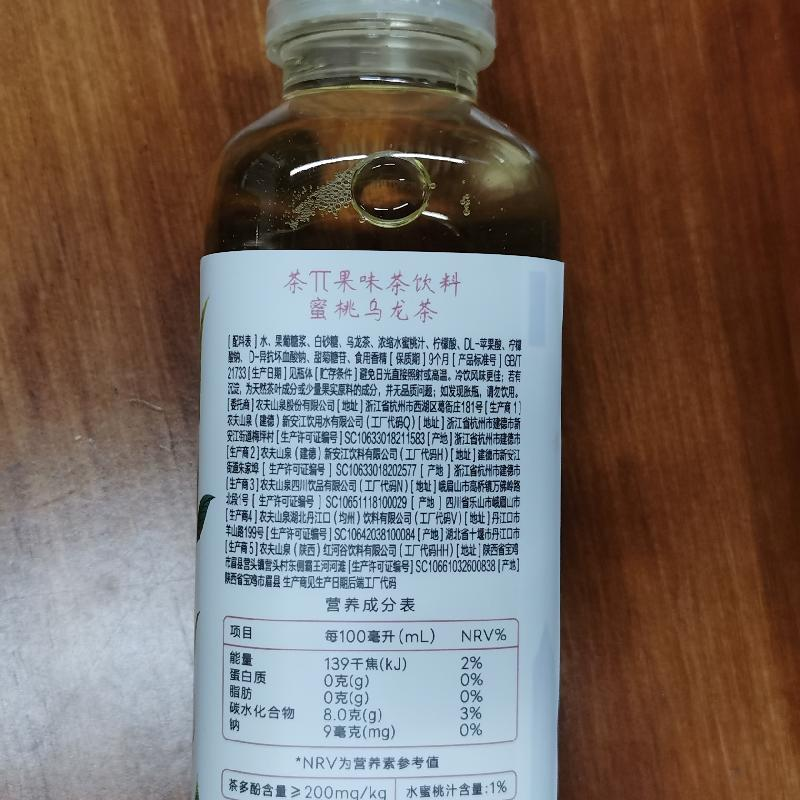bottles: (190, 1, 578, 799)
